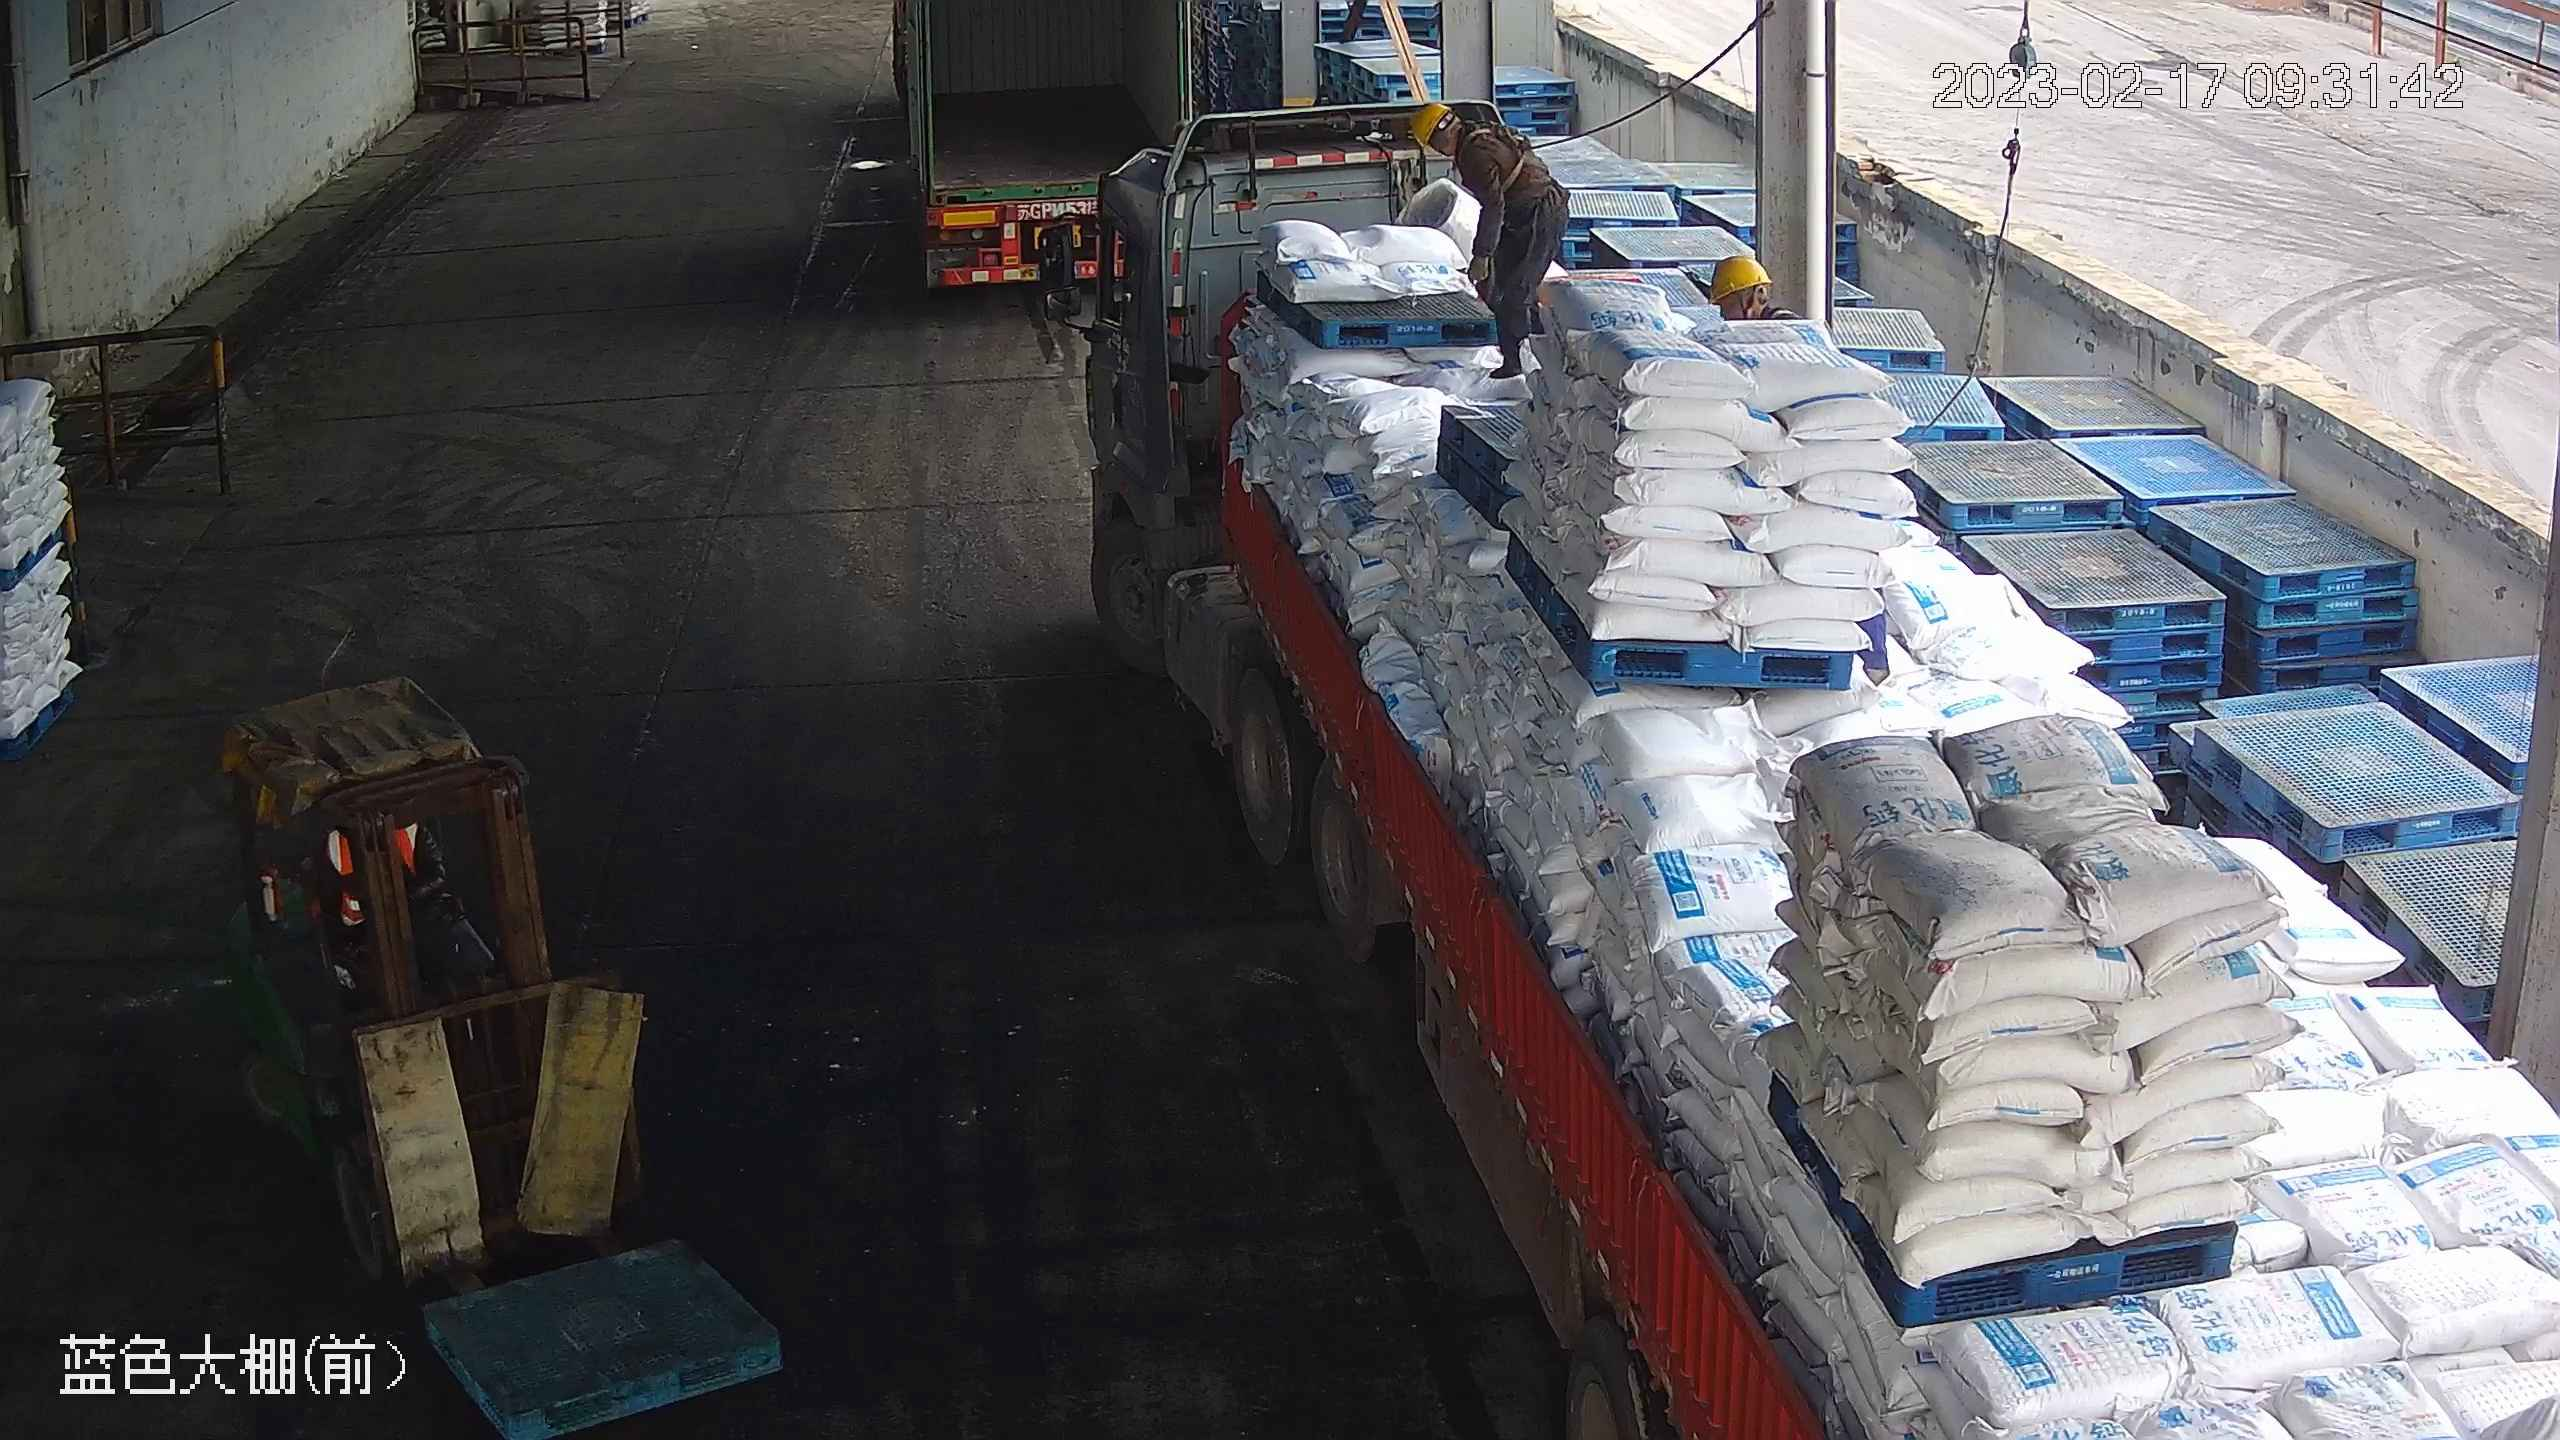belt: (1457, 119, 1529, 193)
head: (1410, 103, 1540, 179)
helmet: (1709, 255, 1774, 304), (1411, 103, 1452, 153)
people: (1411, 104, 1572, 380)
truck: (1077, 97, 2560, 1440)
